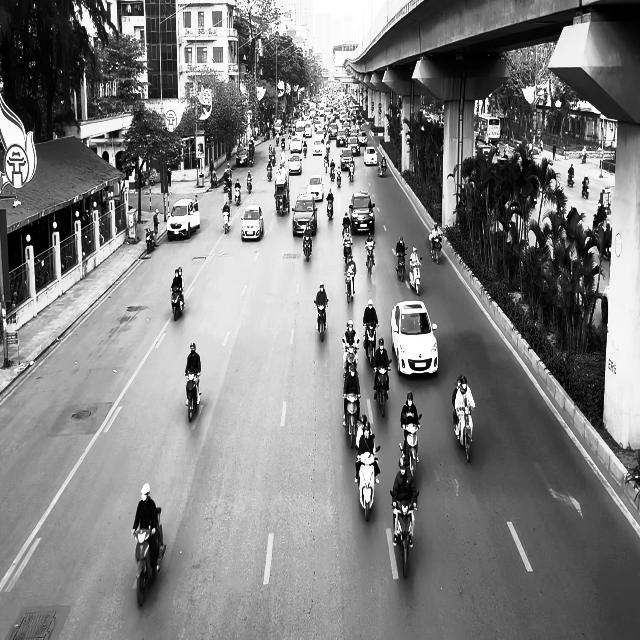bus: (477, 113, 502, 144)
car: (391, 300, 438, 376), (167, 198, 200, 240), (348, 190, 375, 234), (292, 193, 317, 237), (240, 204, 264, 240), (306, 174, 324, 201), (288, 153, 302, 175), (363, 146, 377, 166), (236, 147, 248, 166)
motorbike: (132, 506, 166, 606), (389, 489, 418, 578), (355, 445, 380, 522), (401, 419, 421, 478), (454, 406, 473, 463), (373, 362, 391, 417), (343, 392, 360, 449), (184, 371, 201, 422), (363, 322, 378, 367), (342, 338, 359, 376), (314, 300, 328, 341), (408, 257, 422, 295), (393, 246, 407, 282), (170, 286, 184, 321), (365, 240, 375, 276), (430, 234, 442, 264), (344, 271, 355, 303), (144, 227, 156, 252), (302, 230, 312, 260), (222, 205, 231, 234), (343, 238, 352, 264), (326, 198, 334, 219), (234, 183, 241, 205), (377, 161, 386, 177), (581, 180, 589, 198), (567, 172, 574, 187)
